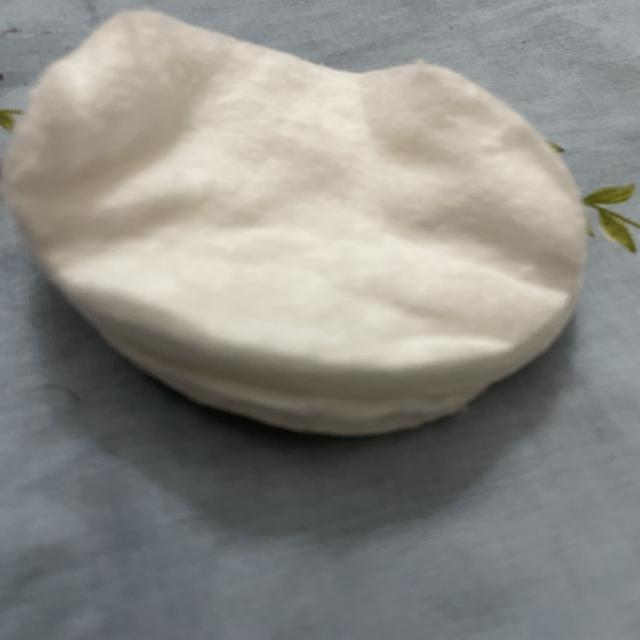nail polish remover: (0, 0, 625, 456)
